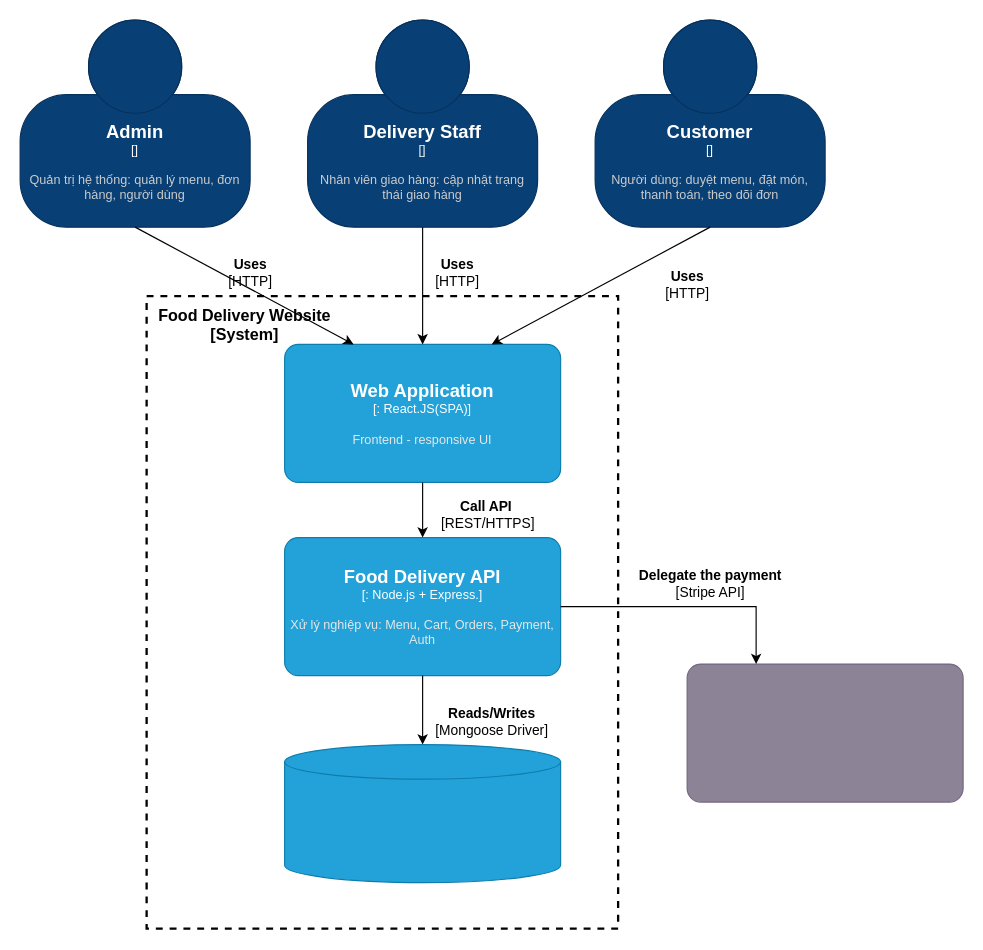
Some shapes in this 983 by 950 pixel diagram are drawn without their labels. The box of each missing label's shape, as (x1, y1, x2, y2) in pixels:
Database [: MongoDB] Lưu Users, Menu, Orders, Cart, Payments: (283, 743, 561, 883)
Payment Service [Stripe] Xử lý thanh toán trực tiếp: (686, 663, 963, 802)
